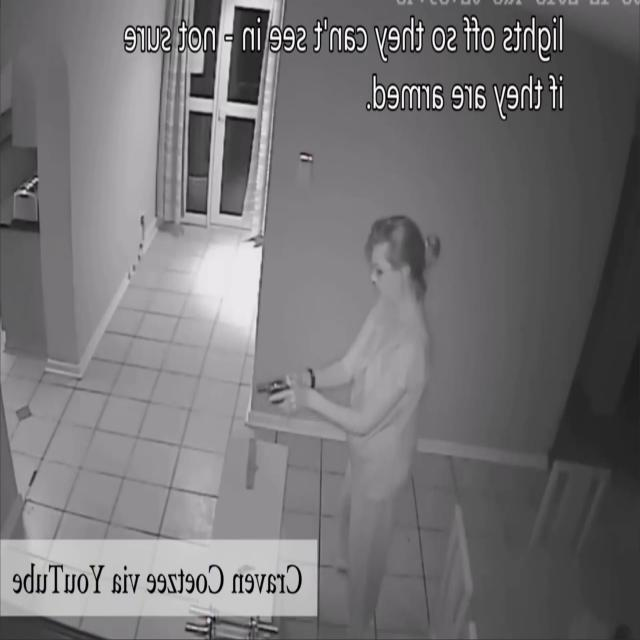Gun: (254, 374, 298, 406)
